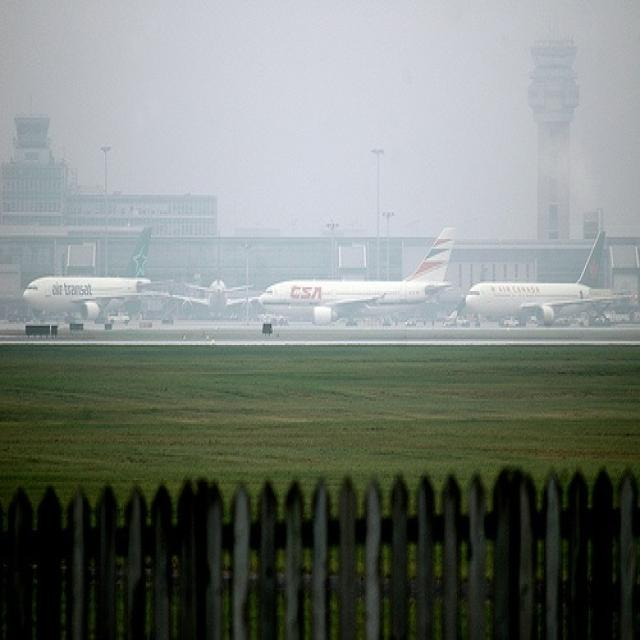aeroplane: (258, 222, 460, 330), (462, 228, 629, 330), (23, 224, 166, 334), (150, 239, 271, 330)
